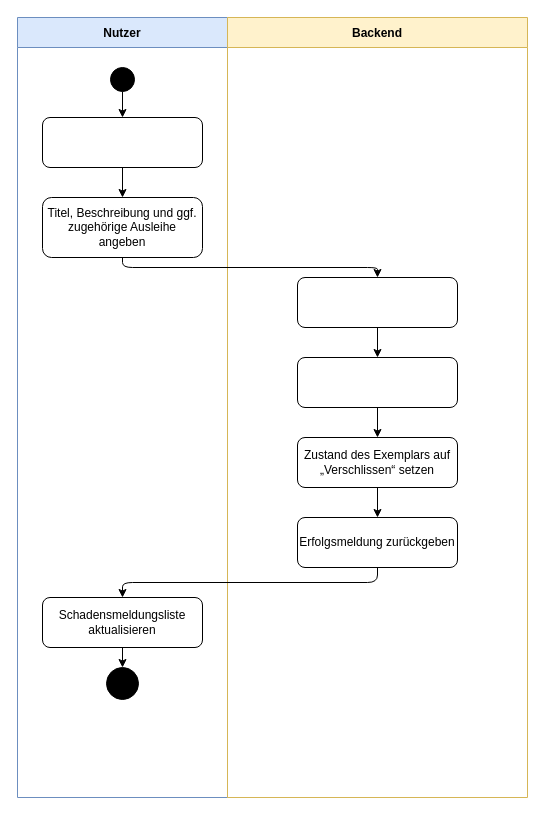
Image size: 545x815. Some labels were removed from this diagram. The centre of each missing label's shape, as x and y in pixels:
"Defektes Exemplar auswählen" belongs at (122,142).
"Exemplar als „In Wartung“ markieren" belongs at (377,382).
"Schadensmeldung anlegen" belongs at (377,302).
